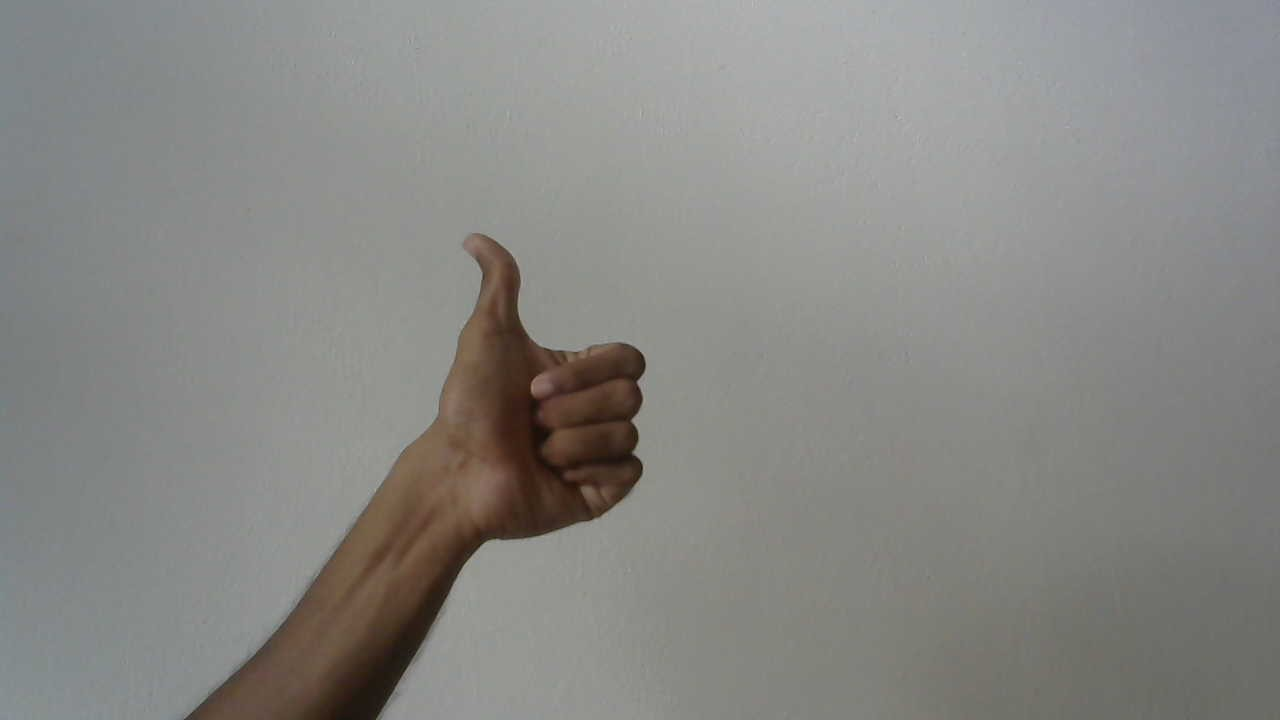thumbsup: (416, 220, 658, 567)
